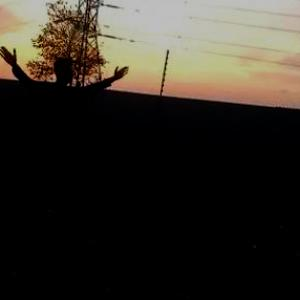takeoff: (3, 50, 126, 206)
